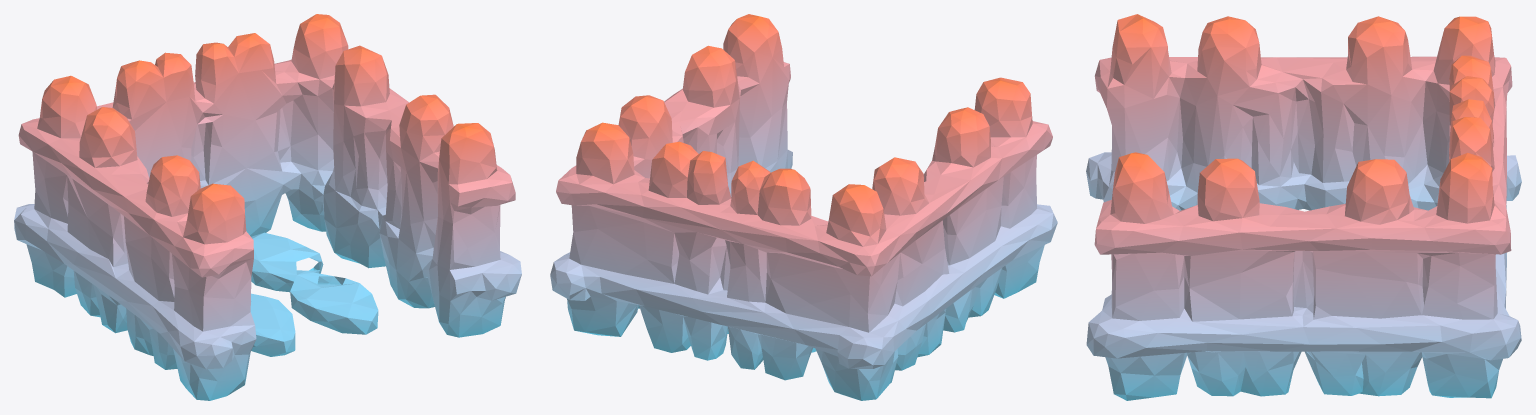
File: 144_cyb_laser_gradient_fish_scales_2959_2026_10_03_92a39c.glb
3 views of the same model, side by side, from view 1: azimuth 30°, elevation 25°; view 2: azimuth 150°, elevation 25°; view 3: azimuth 270°, elevation 25° (orthographic). The views are drawn at different scales.
Visible parts, largest first — view 1: geometry_0; view 2: geometry_0; view 3: geometry_0.
Boxes of the visible parts, left/top/right/bottom form: geometry_0: left=14, top=14, right=521, bottom=400; geometry_0: left=550, top=14, right=1057, bottom=400; geometry_0: left=1086, top=14, right=1521, bottom=400.
Size of the model in its own units: 1 by 0.5952 by 1.
